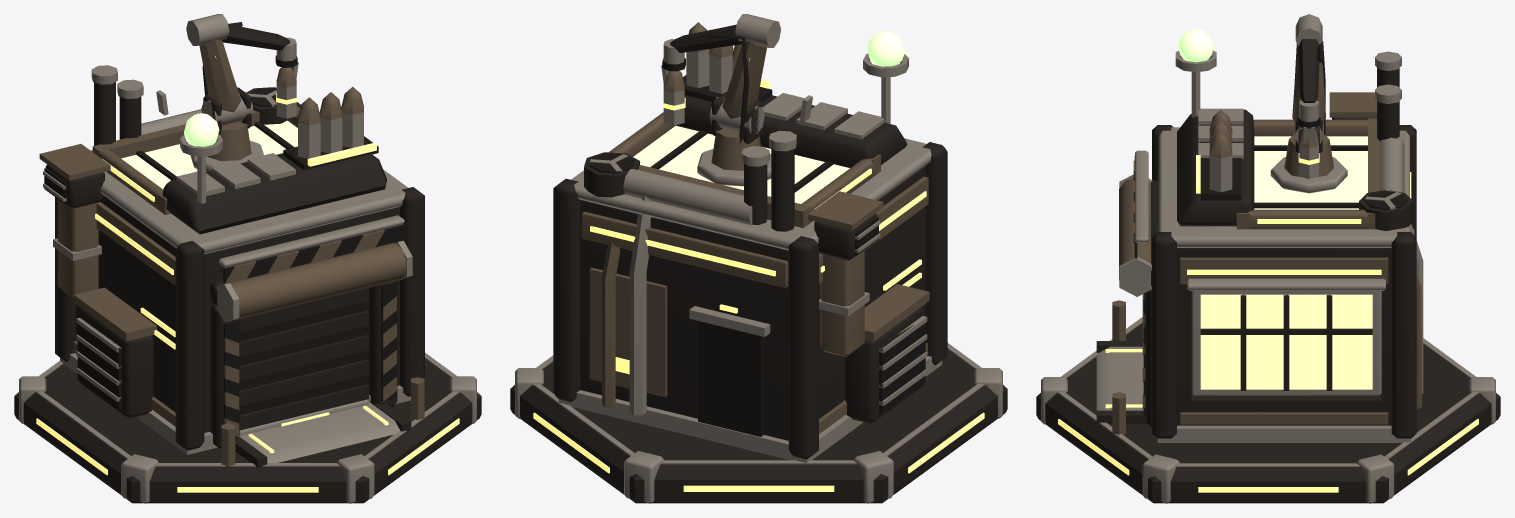
The model's file is fac_press.glb.
3 renders of one model, left to right at view 1: azimuth 30°, elevation 25°; view 2: azimuth 150°, elevation 25°; view 3: azimuth 270°, elevation 25°, orthographic. The views are drawn at different scales.
Parts seen in each view (by area): view 1: base, roof, spin, lamp; view 2: base, roof, spin, lamp; view 3: base, roof, spin, lamp.
Part boxes in pixels (x1,y1,x2,y2): base: (14,102,481,503); roof: (91,65,386,234); spin: (156,14,298,171); lamp: (180,113,222,156); base: (510,112,1007,503); roof: (584,22,907,231); spin: (661,14,812,186); lamp: (863,31,908,77); base: (1036,92,1500,503); roof: (1177,51,1413,230); spin: (1270,14,1347,193); lamp: (1175,29,1216,72).
Bounding box in the file's own units: 1.8 × 1.89 × 2.05.
